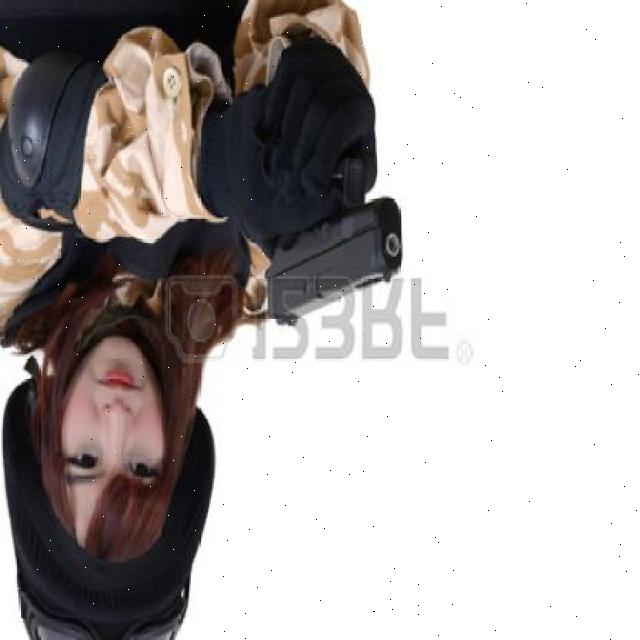gun: (245, 112, 428, 348)
